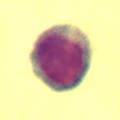lymphocyte: (26, 24, 95, 91)
